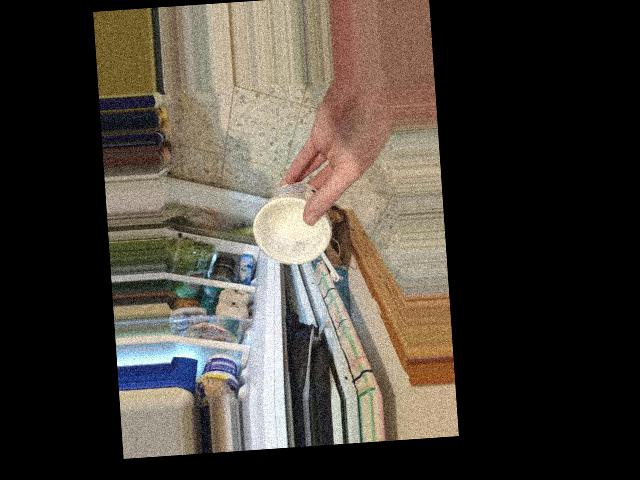cotage: (264, 179, 337, 269)
